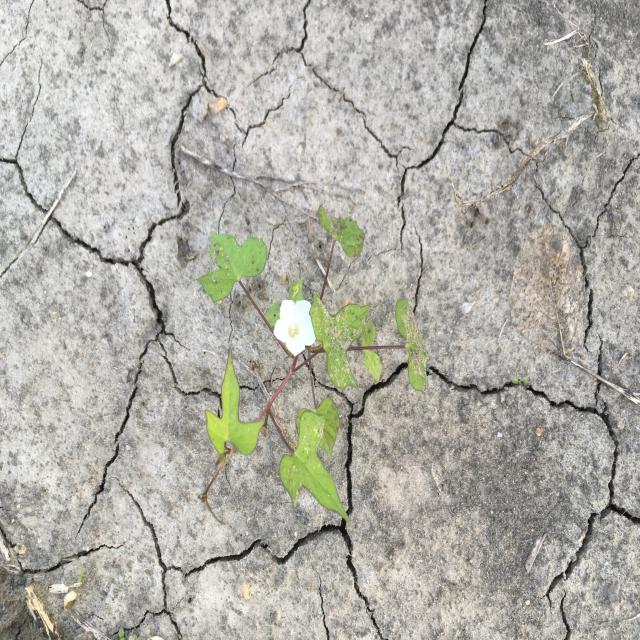MorningGlory: (194, 203, 432, 528)
